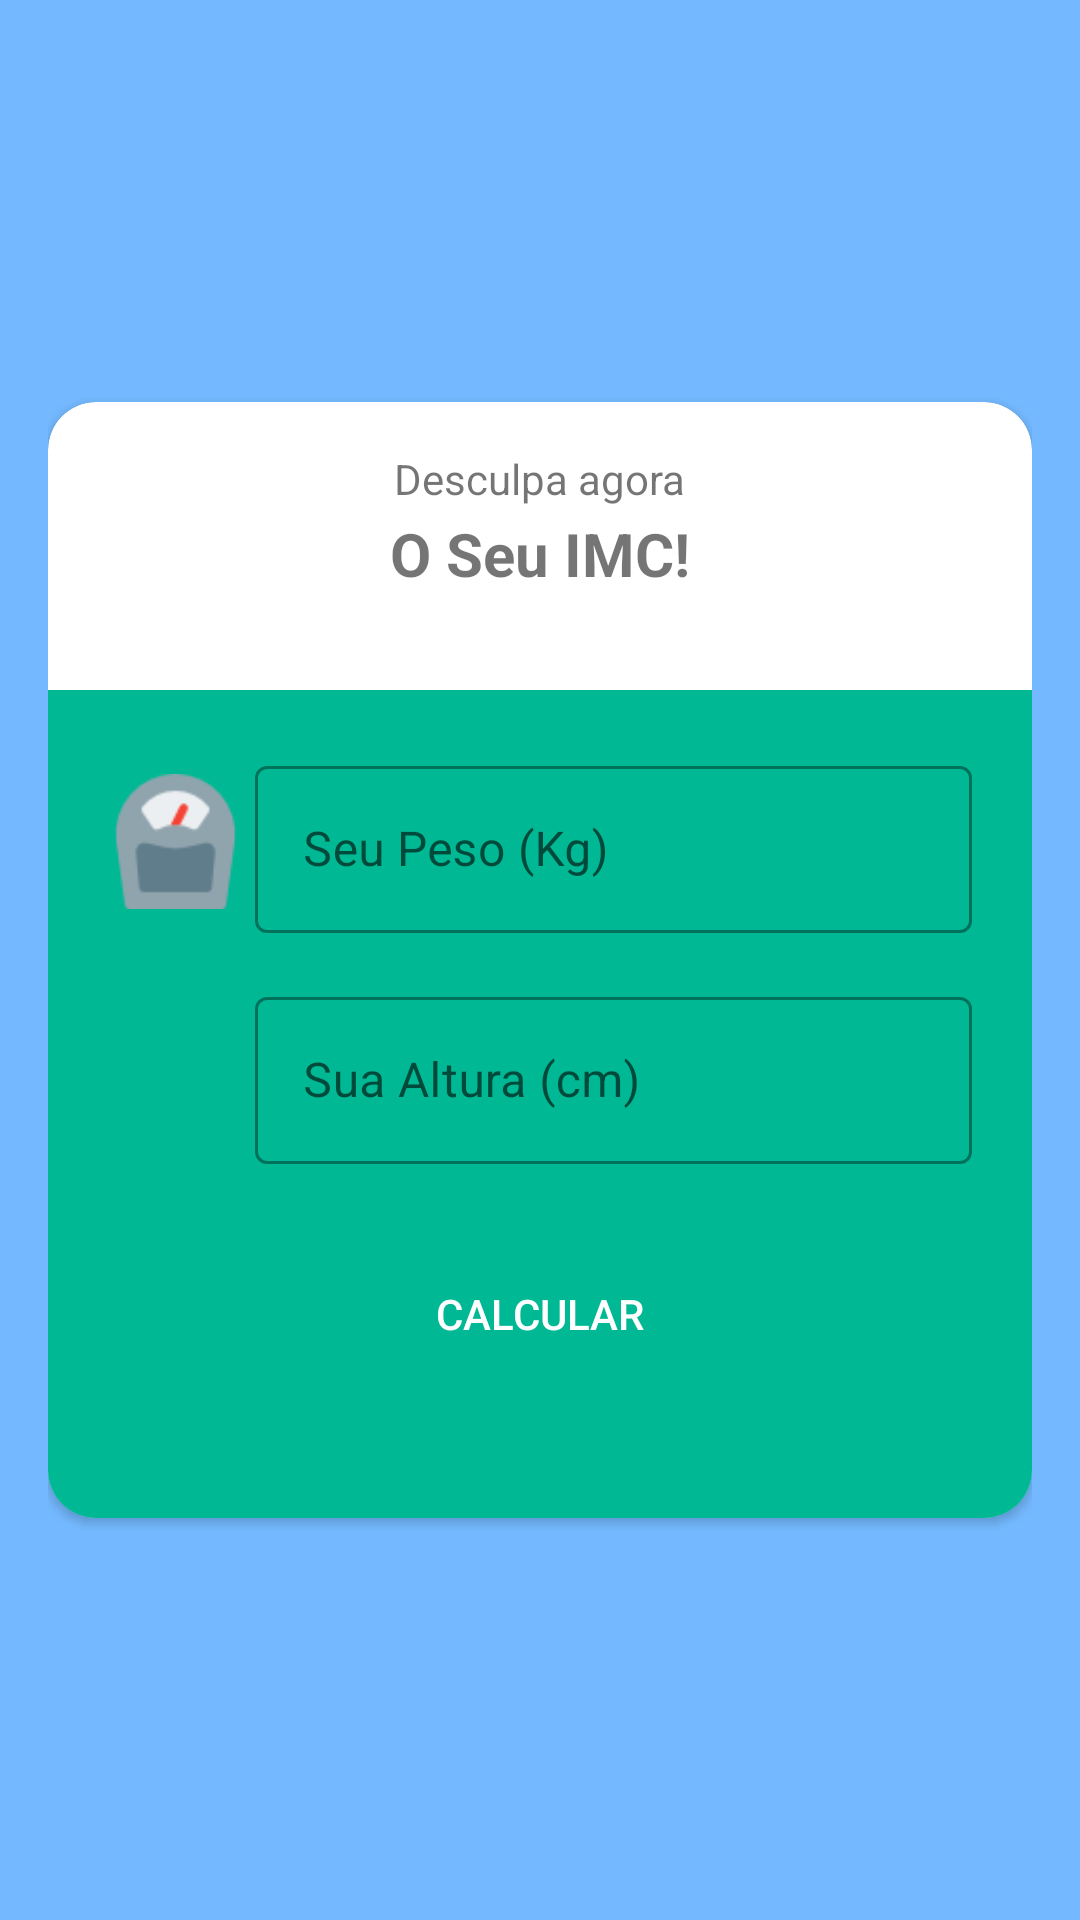

Icon click points for this 1080 x 1920 phone screenshot, format (x=x, y=y):
balanca: (x=175, y=841)
